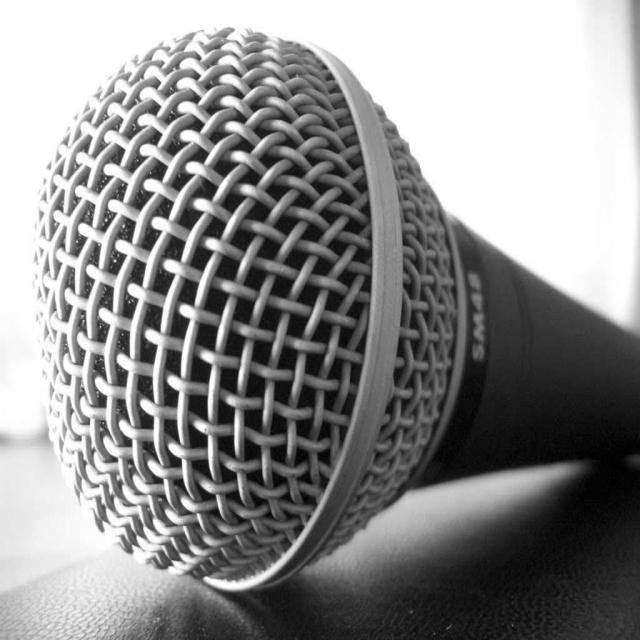microphone: (42, 30, 628, 575)
